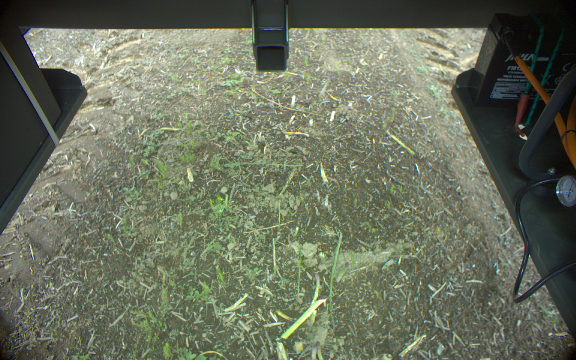aspa: (282, 296, 329, 338), (310, 271, 320, 326), (309, 338, 323, 360)
